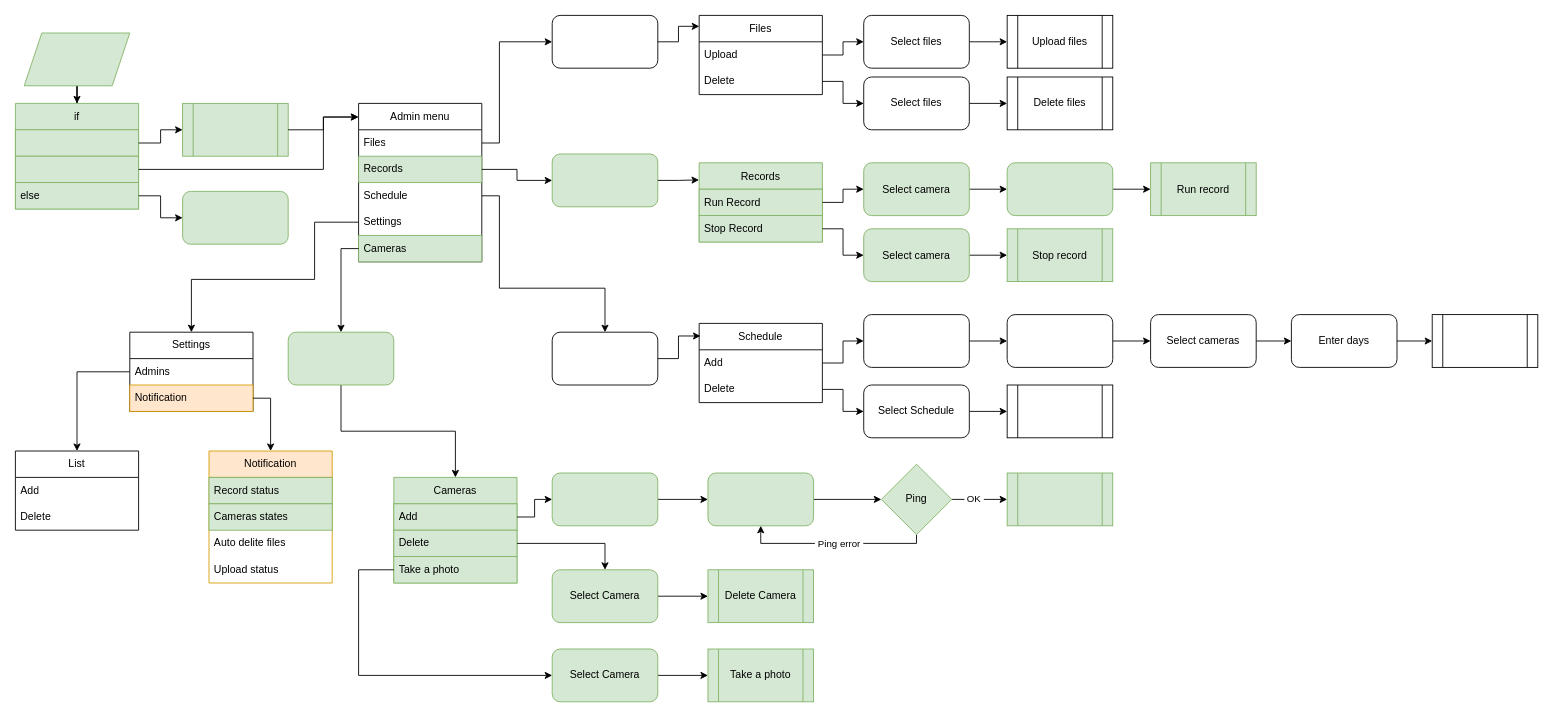
Image size: 1553x717. Some labels were removed from this diagram. Here are the shapes that lost their labels. From the top down, the centre of each, then its label:
pixel 76 59: /start
pixel 604 41: Send list of files
pixel 77 142: Admins list empty
pixel 235 129: add to admin list
pixel 77 169: is admin
pixel 604 180: Send active records
pixel 1059 189: Recording time
pixel 235 217: You not have permission!
pixel 340 358: Send Cameras and status
pixel 604 358: Send list of s chedule
pixel 916 340: Enter start time
pixel 1059 340: Enter duration
pixel 1484 340: Add Schedule
pixel 1059 411: Delete Schedule
pixel 604 499: Enter name
pixel 760 499: Enter RTSP address
pixel 1059 499: Add Camera
